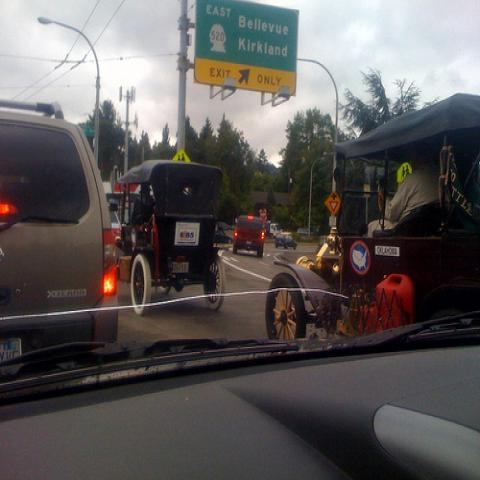car: (257, 83, 479, 343), (0, 99, 120, 360), (110, 160, 227, 317), (233, 215, 266, 257), (275, 234, 298, 250), (215, 230, 236, 245), (269, 223, 281, 235), (297, 227, 308, 236)
